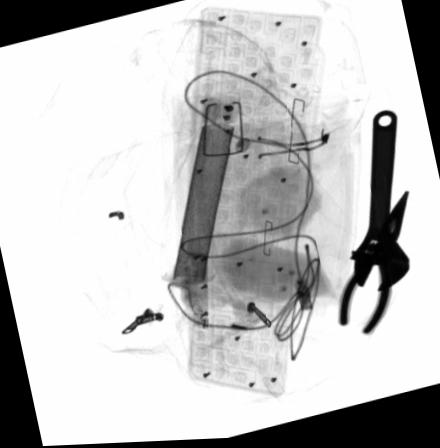Pliers: (337, 193, 410, 337)
Wrench: (348, 110, 411, 295)
